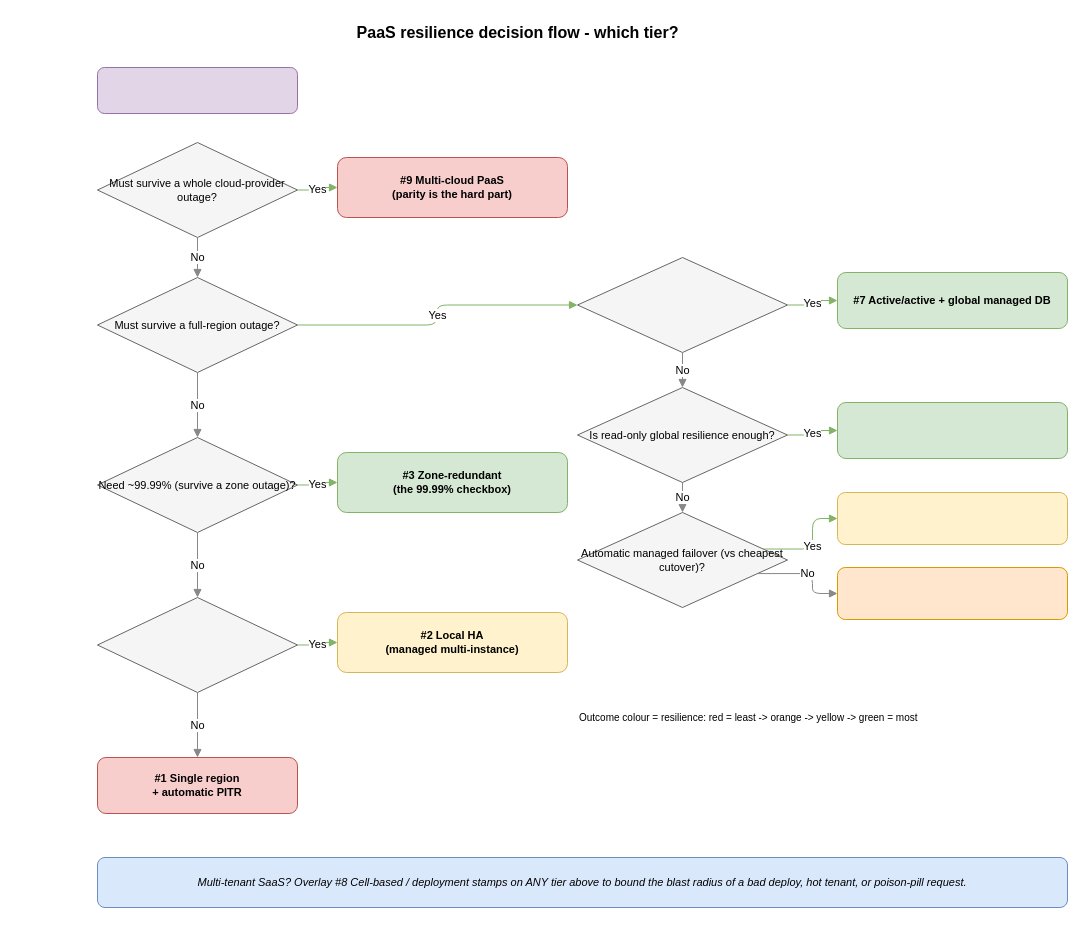
Some shapes in this 1085 by 925 pixel diagram are drawn without their labels. The centre of each missing label's shape, as x and y in pixels:
#4 Serverless scale-to-zero pilot light: the point at 952,593
#5 Managed regional failover group: the point at 952,518
#6 Global read replicas (single-writer): the point at 952,430
Need automatic local HA / no data loss?: the point at 197,644
Start: pick a PaaS resilience tier: the point at 197,90
Zero-downtime active/active (multi-writer OK)?: the point at 682,304
